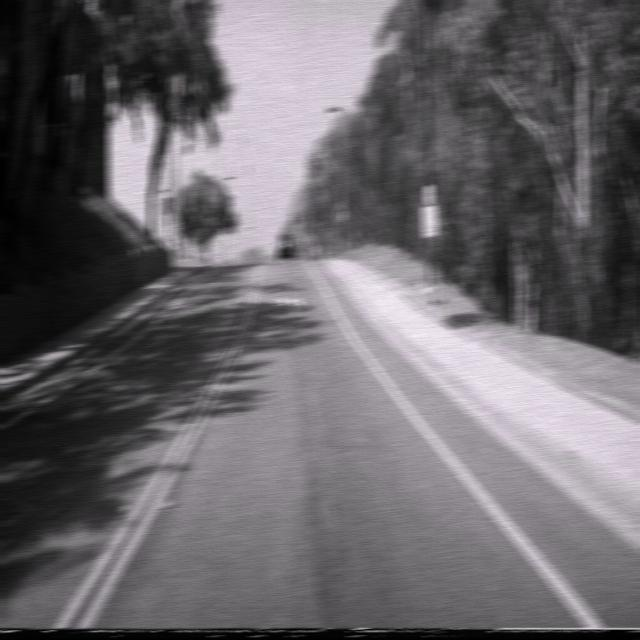speedLimit35: (420, 204, 438, 236)
